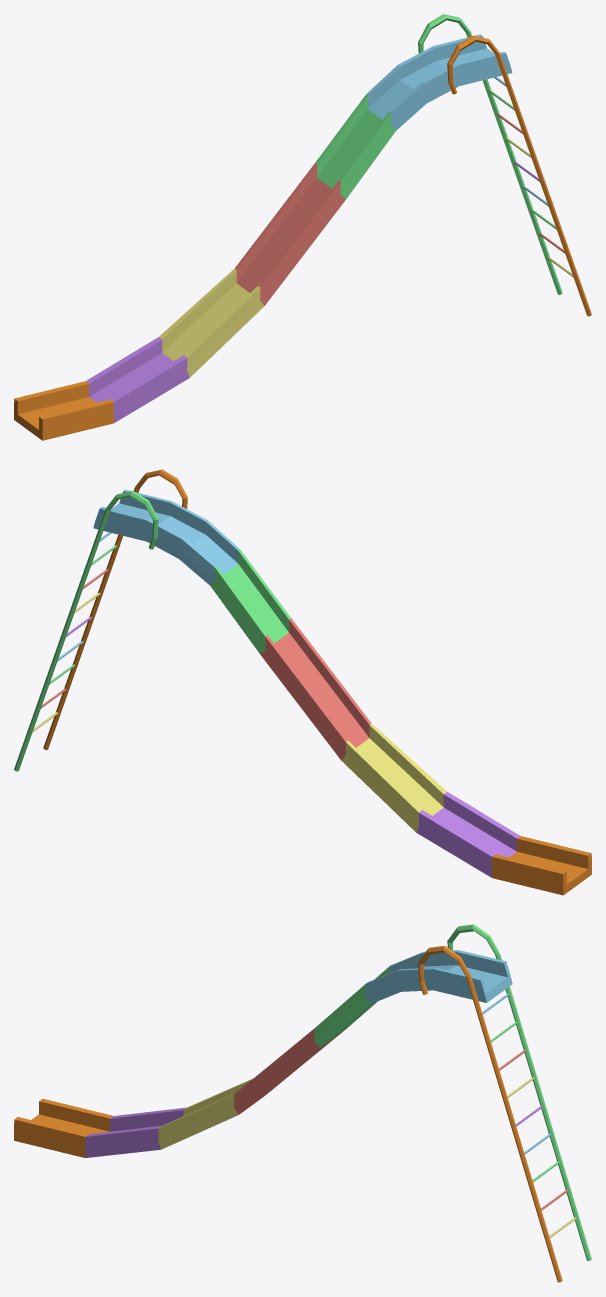
The model's file is tobogan.fbx.
3 views of the same model, one above another, from view 1: azimuth 30°, elevation 25°; view 2: azimuth 150°, elevation 25°; view 3: azimuth 330°, elevation 25° (orthographic).
Parts seen in each view (by area): view 1: tobogan; view 2: tobogan; view 3: tobogan.
Boxes of the visible parts, left/top/right/bottom form: tobogan: left=14, top=14, right=591, bottom=440; tobogan: left=14, top=469, right=591, bottom=895; tobogan: left=14, top=924, right=591, bottom=1282.
Size of the model in its own units: 2215 by 1187 by 229.
